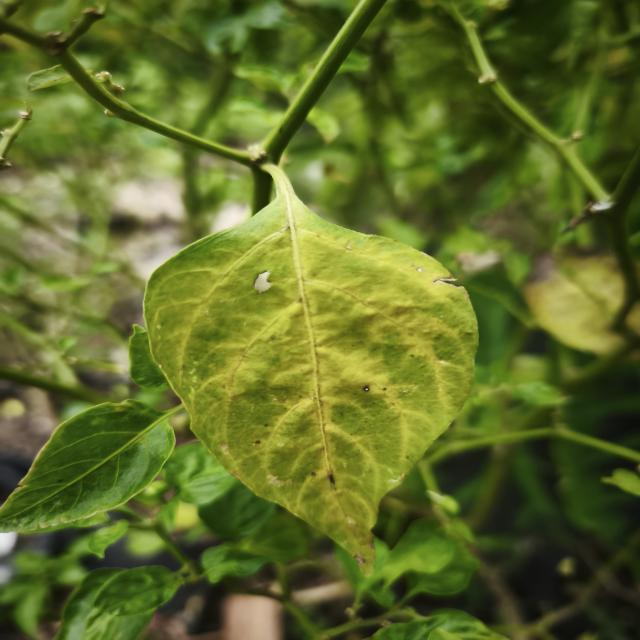Virus Kuning: (141, 162, 480, 578), (0, 395, 176, 536)
